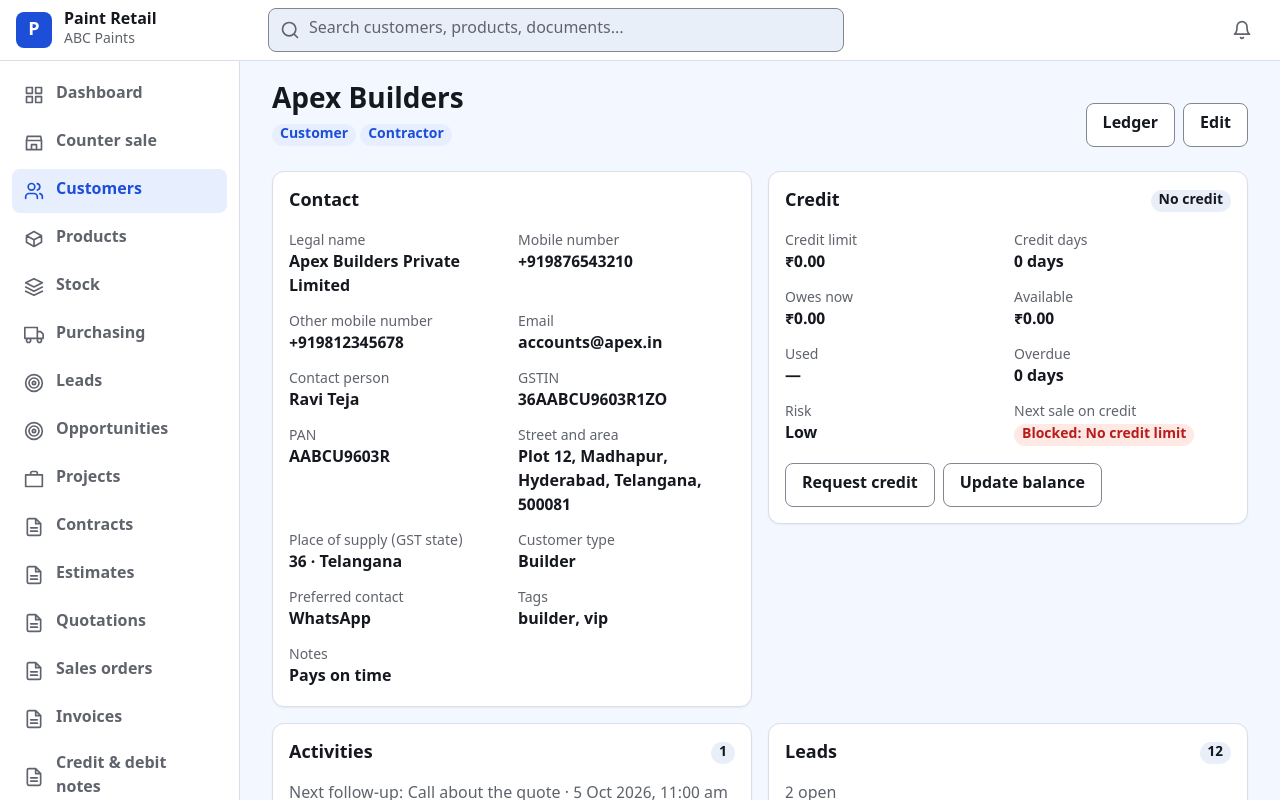
CreditPanel › starts a first request empty, leaves out an empty note, and shows the API’s refusal
The image size is (1280, 800).
Expected: the heading "Apex Builders" is shown, 272,85 -> 464,119
Expected: the text "No credit" is shown, 1150,190 -> 1231,212
Click the button "Request credit" at x=860, y=485, box 785,463 -> 935,507
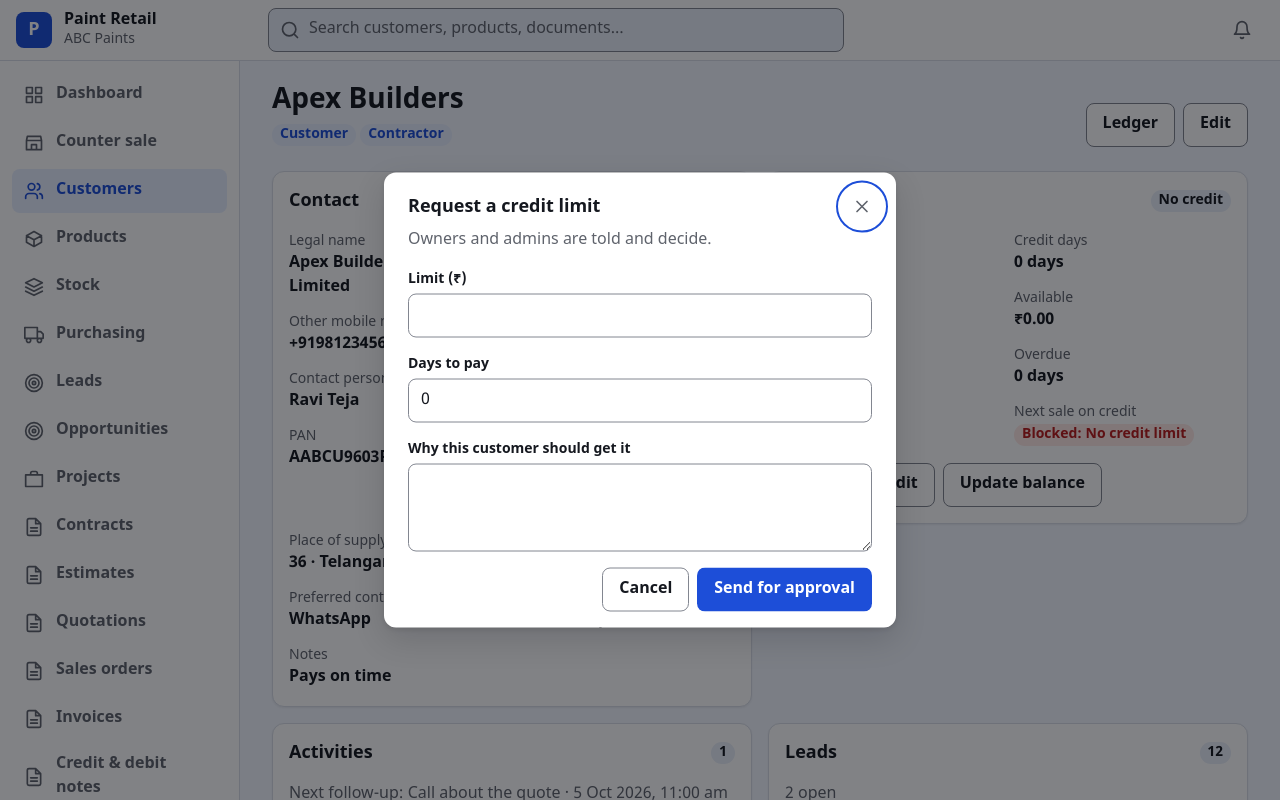
Expected: the field labelled "Limit (₹)" is empty
Type "25000" into the field labelled "Limit (₹)" at x=640, y=316, box 408,294 -> 872,338
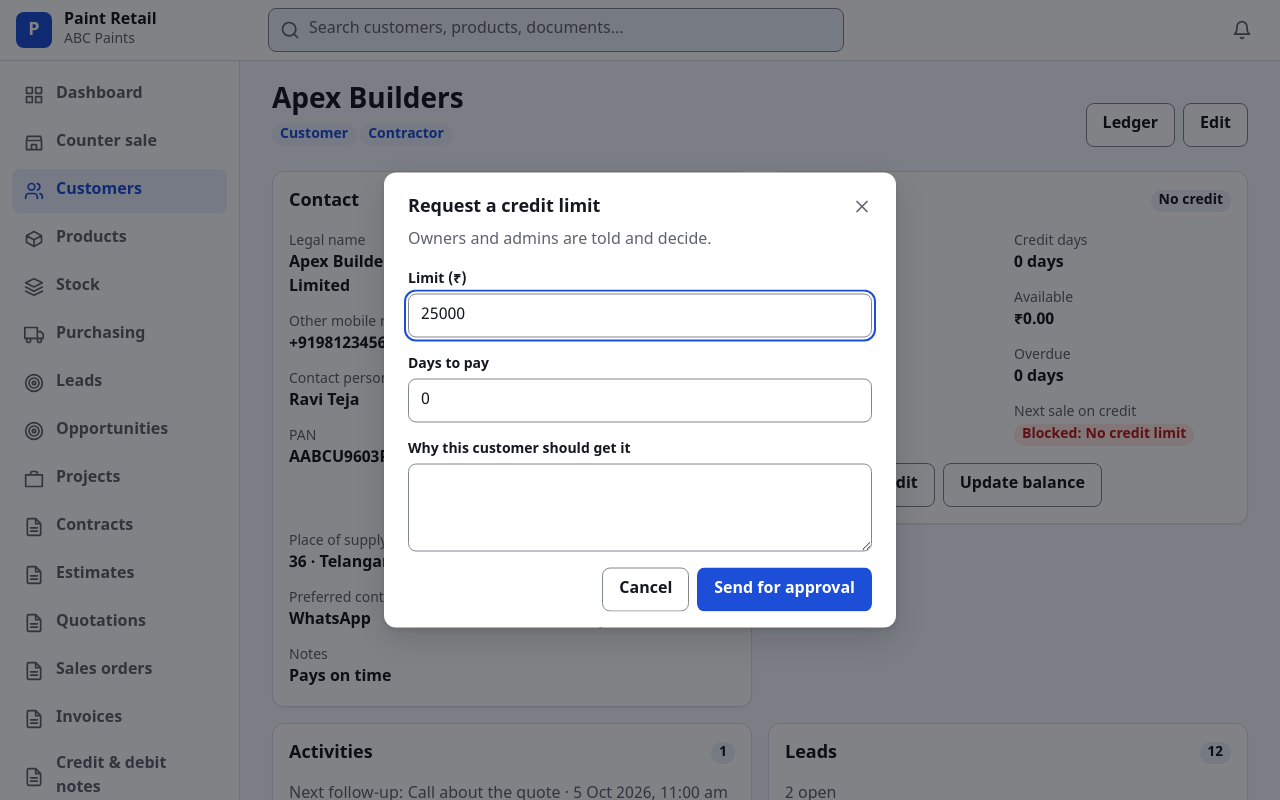
Click the button "Send for approval" at x=785, y=590, box 697,568 -> 872,612
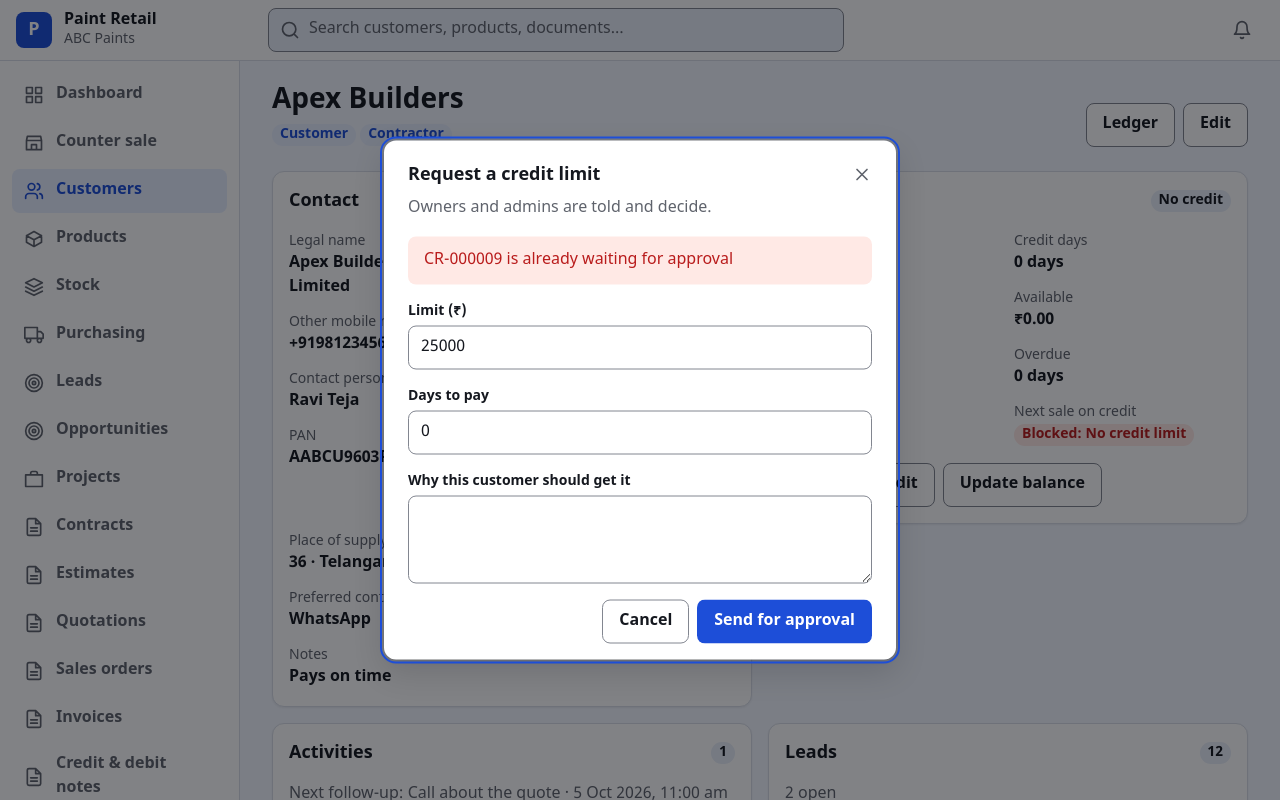
Expected: the text "CR-000009 is already waiting for approval" is shown, 424,248 -> 733,272
Click the button "Send for approval" at x=785, y=622, box 697,600 -> 872,644
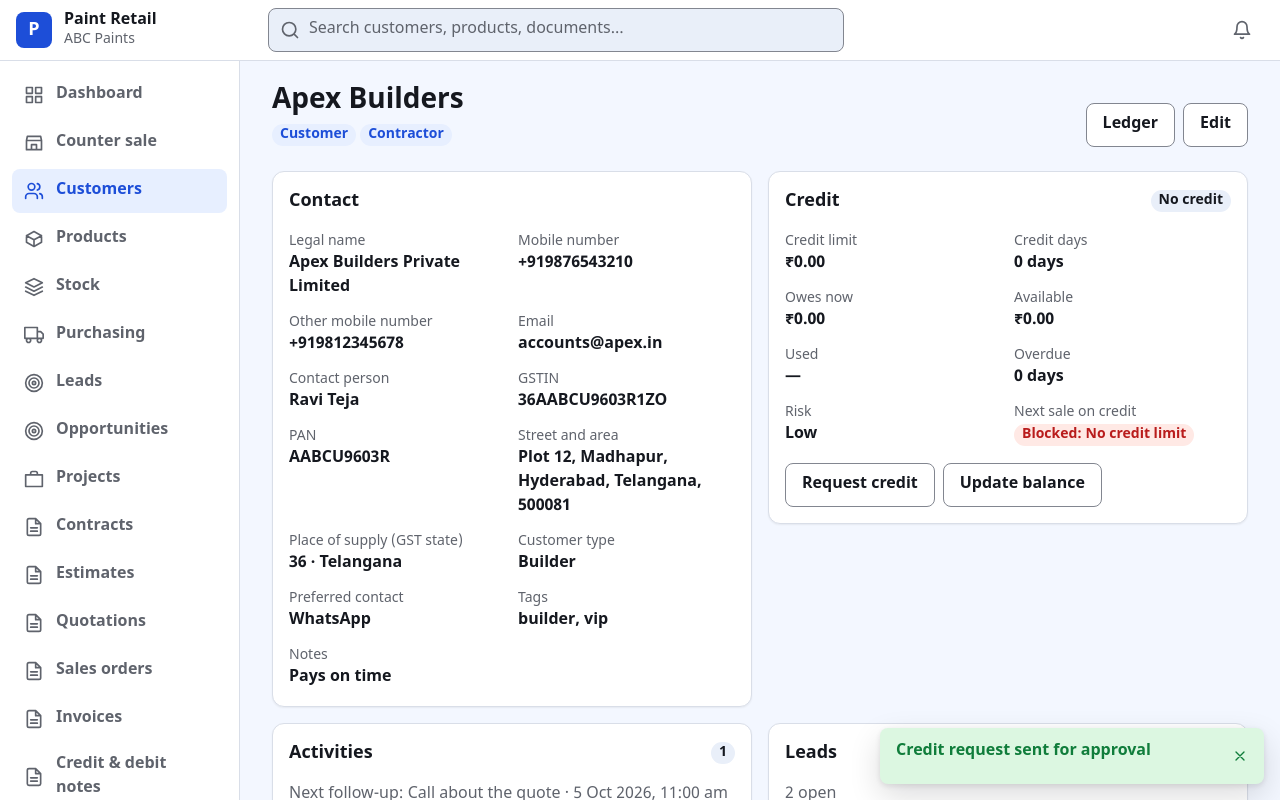
Expected: the text "Credit request sent for approval" is shown, 896,741 -> 1151,762
